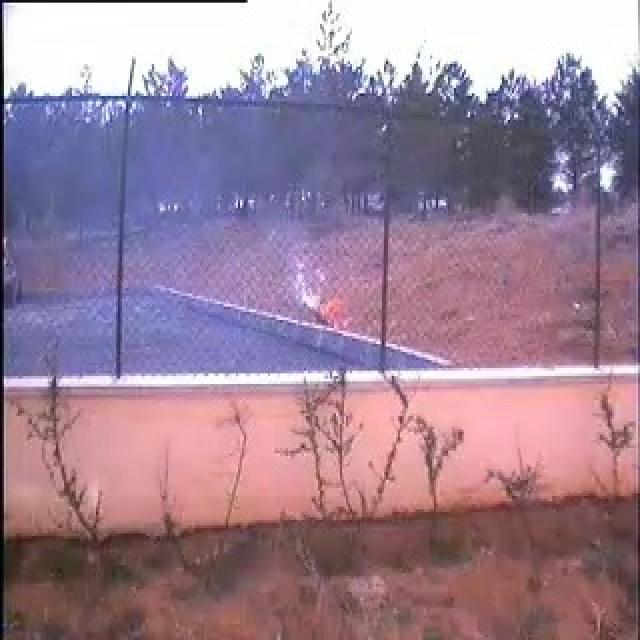smoke: (132, 111, 321, 366)
